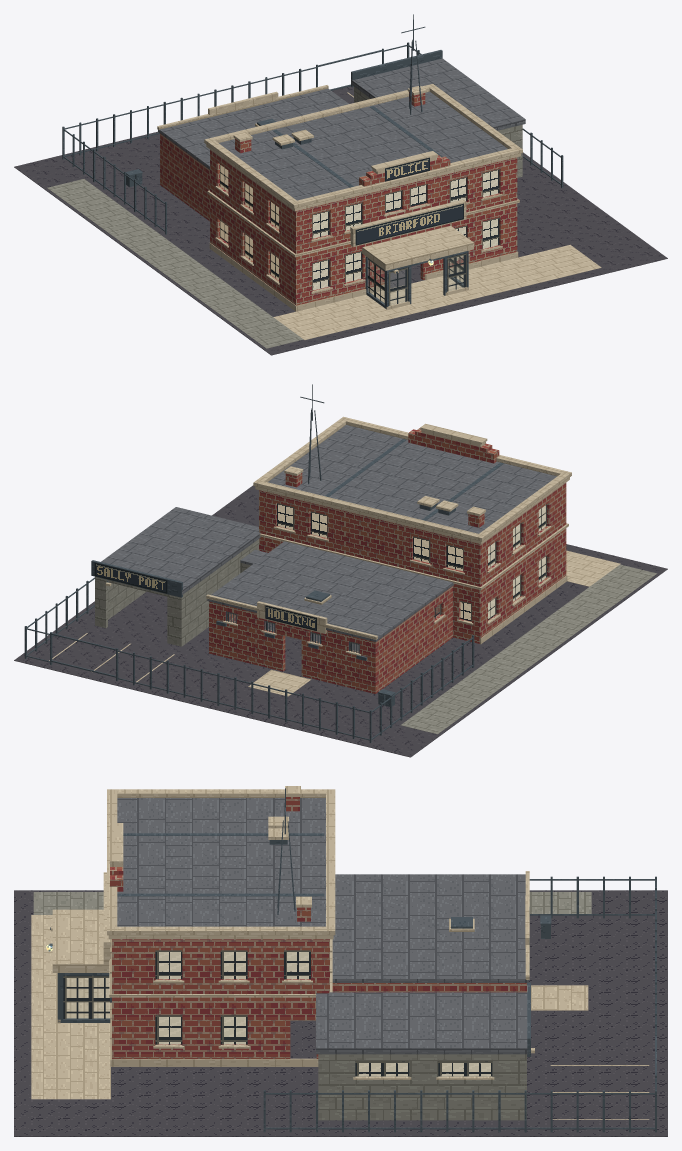
Rendered from briarford-1980-mid.glb.
The picture shows the model from 3 angles, top to bottom: view 1: azimuth 30°, elevation 25°; view 2: azimuth 150°, elevation 25°; view 3: azimuth 270°, elevation 25°; orthographic projection. The views are drawn at different scales.
Visible parts, largest first — view 1: shell, lot, yard_fence, sign_name; view 2: shell, lot, yard_fence; view 3: shell, lot, yard_fence.
Boxes of the visible parts, bbox=[...] form: shell: bbox=[157, 50, 525, 311]; lot: bbox=[14, 86, 667, 355]; yard_fence: bbox=[62, 42, 563, 234]; sign_name: bbox=[355, 203, 463, 245]; shell: bbox=[91, 416, 571, 693]; lot: bbox=[14, 485, 667, 757]; yard_fence: bbox=[24, 577, 474, 742]; shell: bbox=[46, 786, 530, 1120]; lot: bbox=[14, 890, 667, 1136]; yard_fence: bbox=[263, 876, 656, 1132].
Bounding box in the file's own units: 26.7 × 13 × 30.
11 materials, 11 textured.
